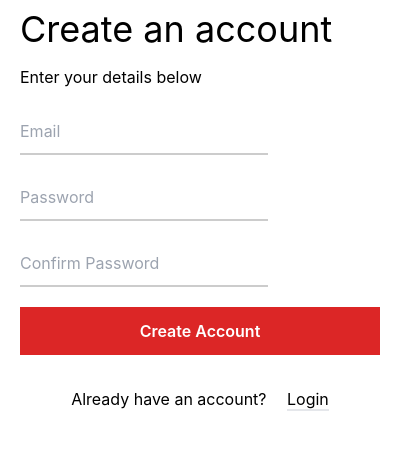
Signup Component › passwords do not match
Type "test@example.com" into the field with placeholder "Email" at (144, 137), box [20,119,268,155]
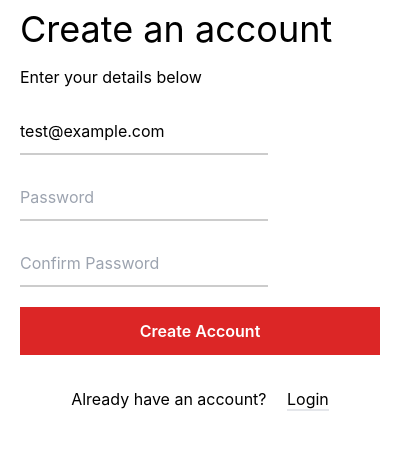
Type "invalid" into the password field with placeholder "Password" at (144, 203), box [20,185,268,221]
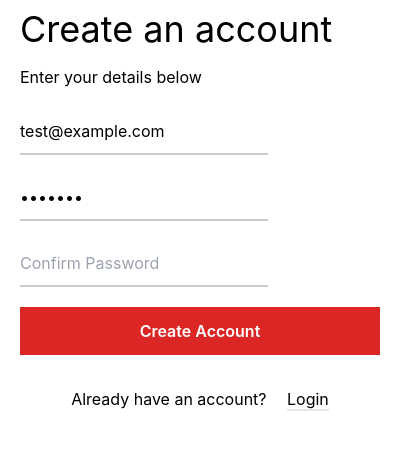
Type "password123" into the password field with placeholder "Confirm Password" at (144, 269), box [20,251,268,287]
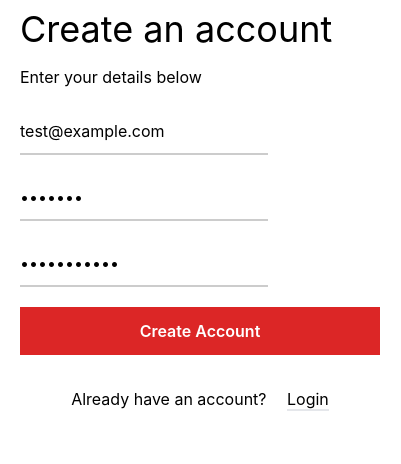
Click the button "Create Account" at (200, 331), box [20,307,380,355]
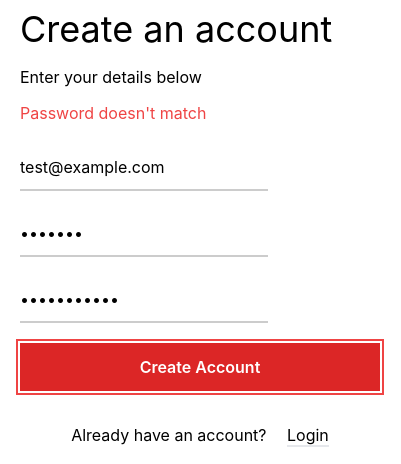
Expected: the text "Password doesn't match" is shown, [20,103,206,123]
